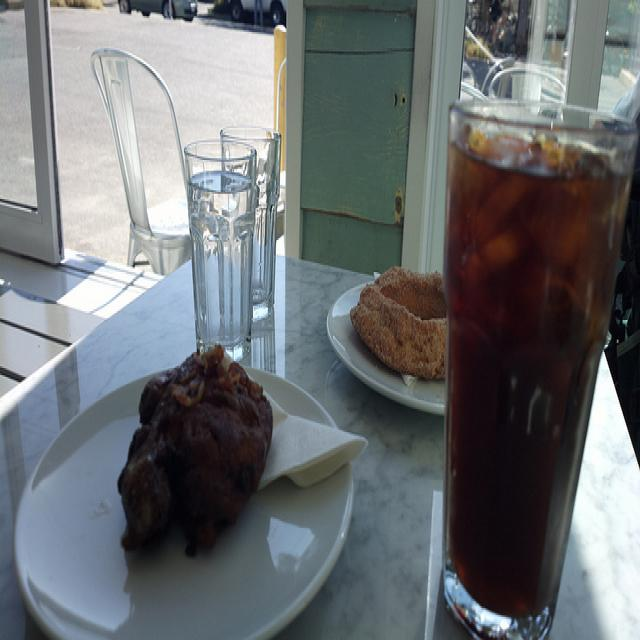chair: (89, 49, 193, 273), (481, 19, 574, 110), (460, 82, 488, 100)
dining table: (1, 91, 640, 630)
